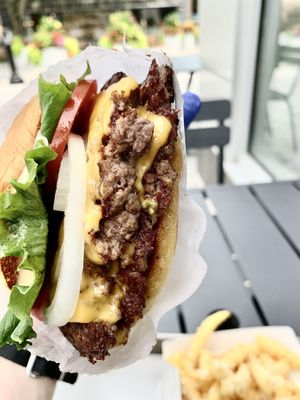soup: (0, 46, 189, 394)
